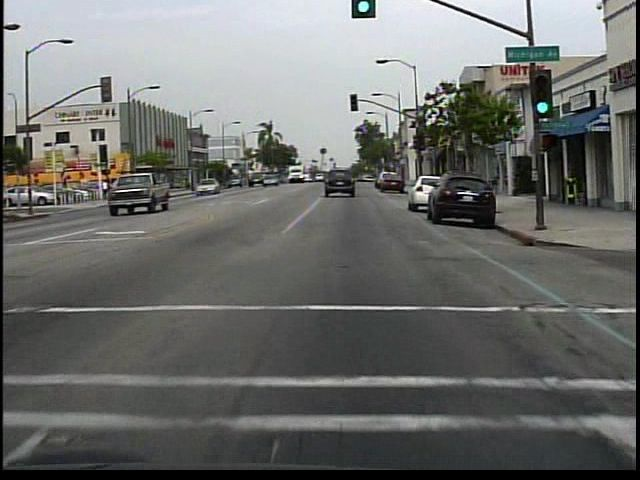person: (103, 177, 112, 203)
